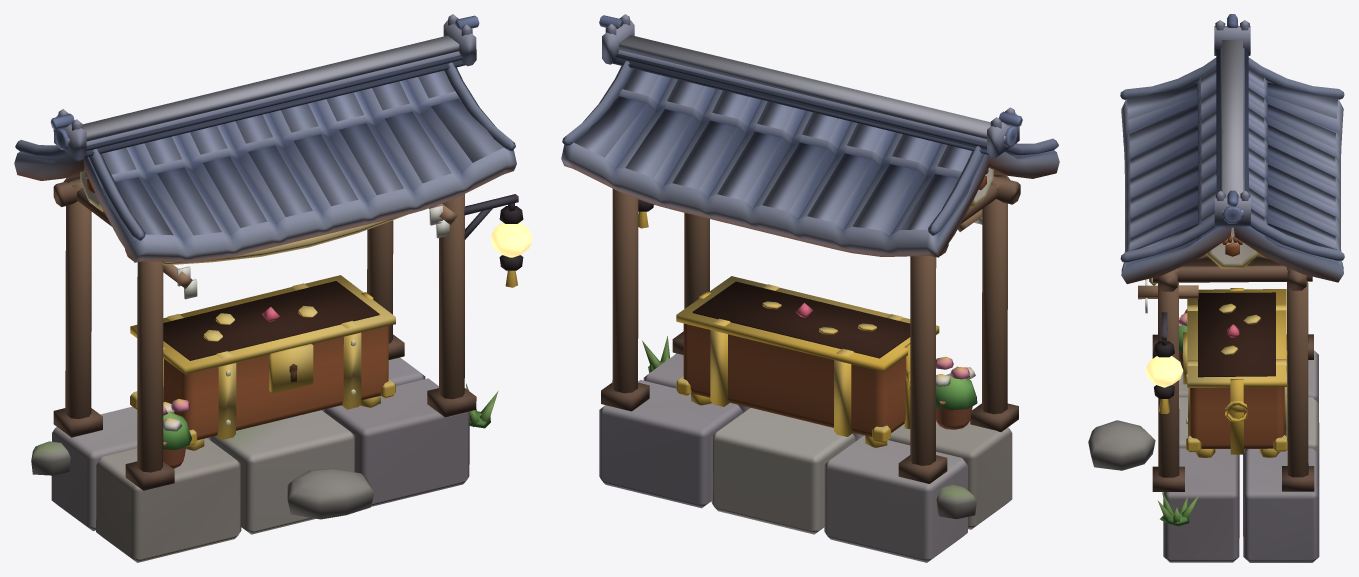
File: stashChest.glb
3 views of the same model, side by side, from view 1: azimuth 30°, elevation 25°; view 2: azimuth 150°, elevation 25°; view 3: azimuth 270°, elevation 25° (orthographic). The views are drawn at different scales.
Parts seen in each view (by area): view 1: stashChest, window_glow; view 2: stashChest; view 3: stashChest, window_glow.
Part boxes in pixels (x1=…): stashChest: x1=14, y1=14, x2=523, y2=562; window_glow: x1=490, y1=222, x2=532, y2=257; stashChest: x1=561, y1=14, x2=1059, y2=562; stashChest: x1=1088, y1=14, x2=1344, y2=562; window_glow: x1=1145, y1=356, x2=1183, y2=387.
Size of the model in its own units: 2.37 by 2.25 by 1.35.
